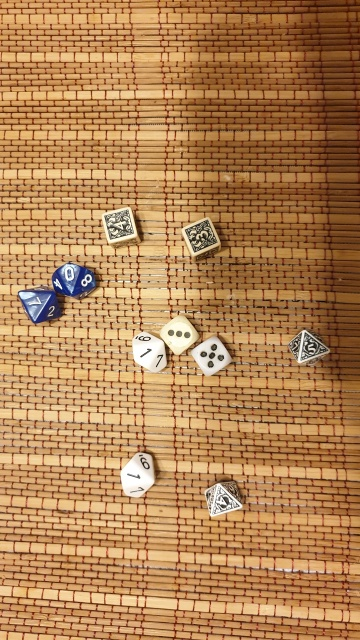d10-1: (112, 448, 160, 502), (123, 327, 170, 376)
d10-10: (50, 259, 98, 301)
d10-7: (14, 282, 65, 327)
d6-3: (160, 311, 200, 363)
d6-5: (190, 333, 233, 376)
d6p-3: (178, 214, 225, 260)
d6p-4: (99, 204, 145, 248)
d8p-4: (200, 477, 247, 522)
d8p-5: (285, 326, 331, 371)
